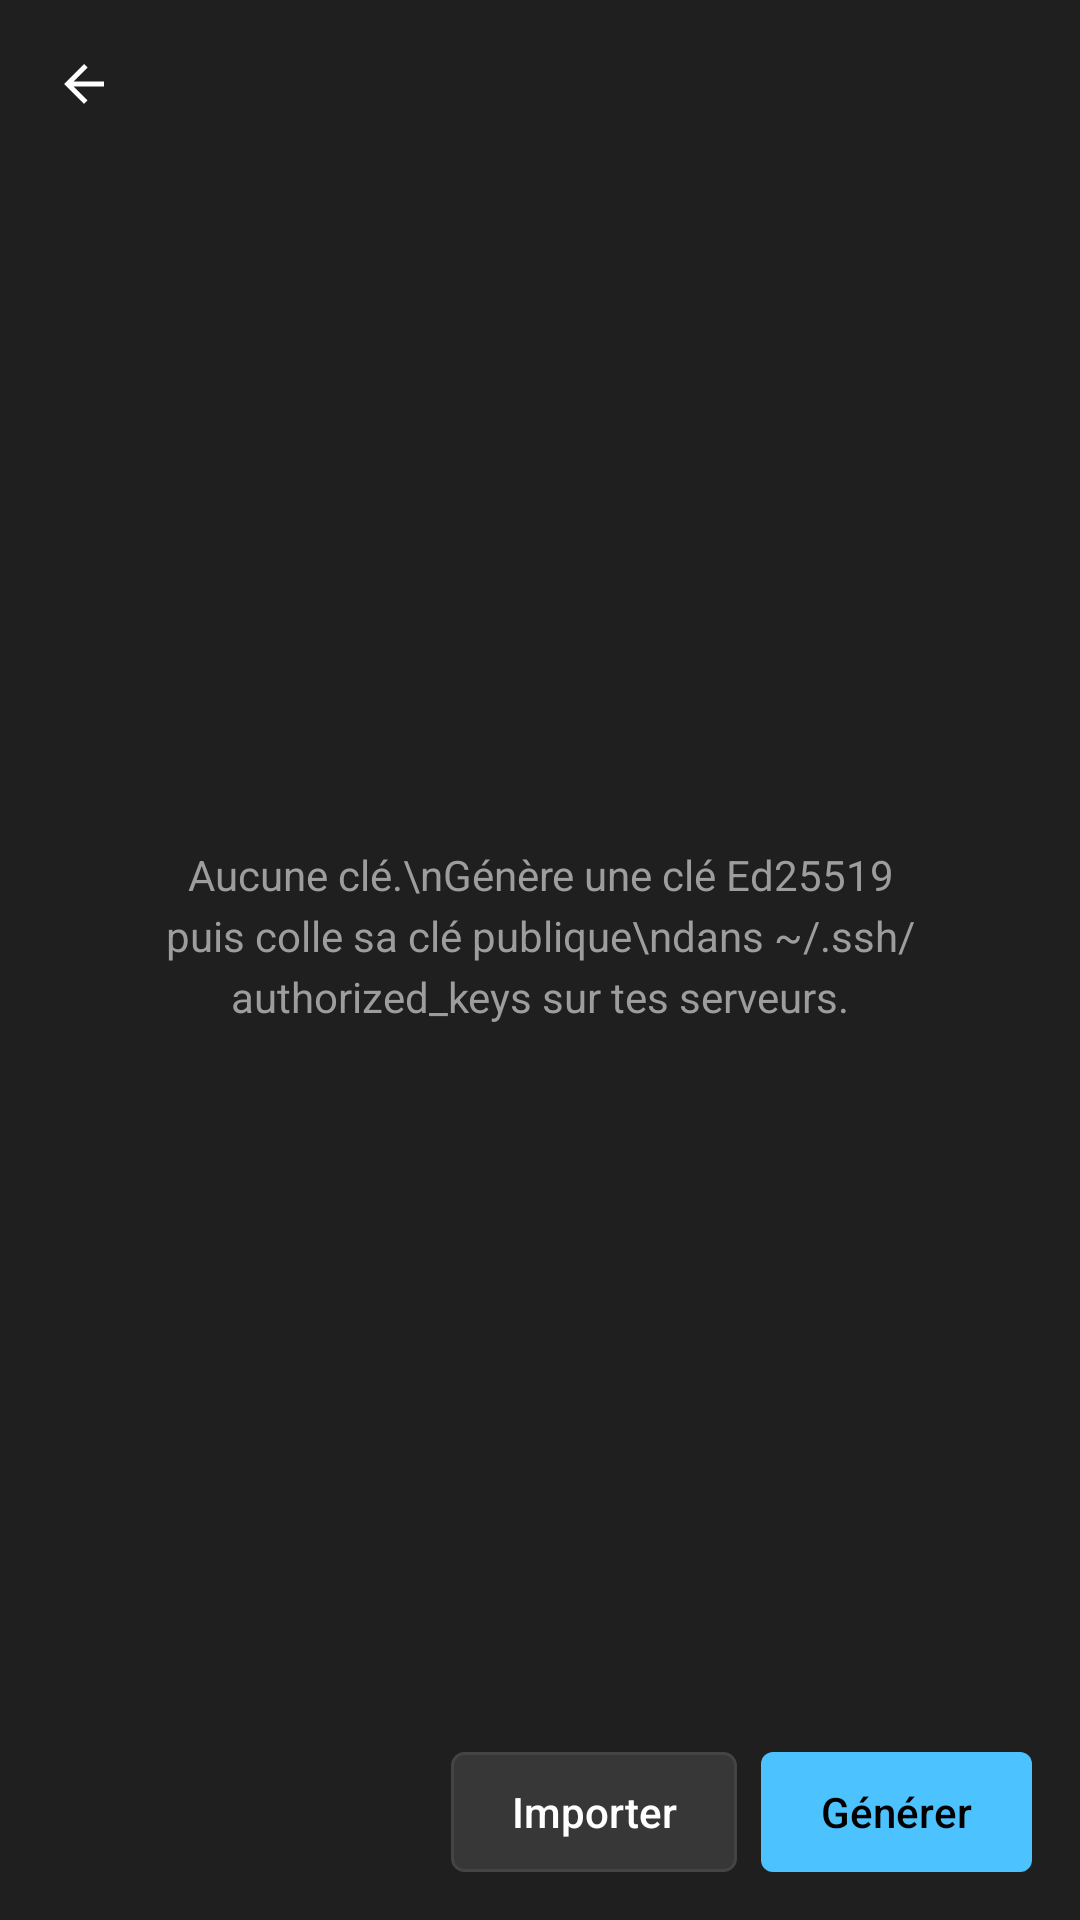

Named icons in this screenshot (1080*1920) and their bounding boxes, [x1,y1,x2,y2]:
Retour: [64,64,104,104]
